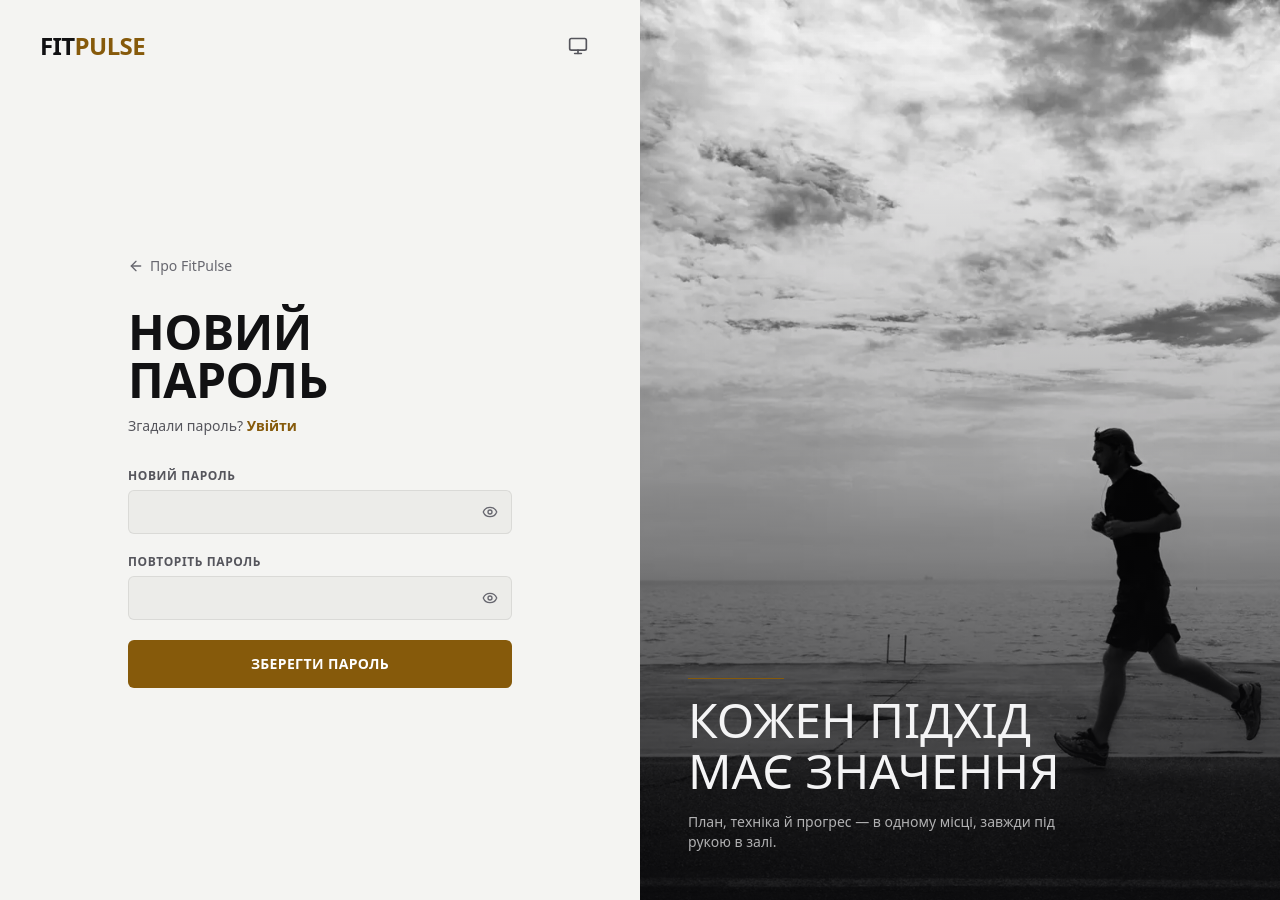
Test case: ResetPasswordPage › reset page requires matching passwords
In the password field labelled "Новий пароль": x=320, y=512 [128,490,512,534], type "brandnew123"
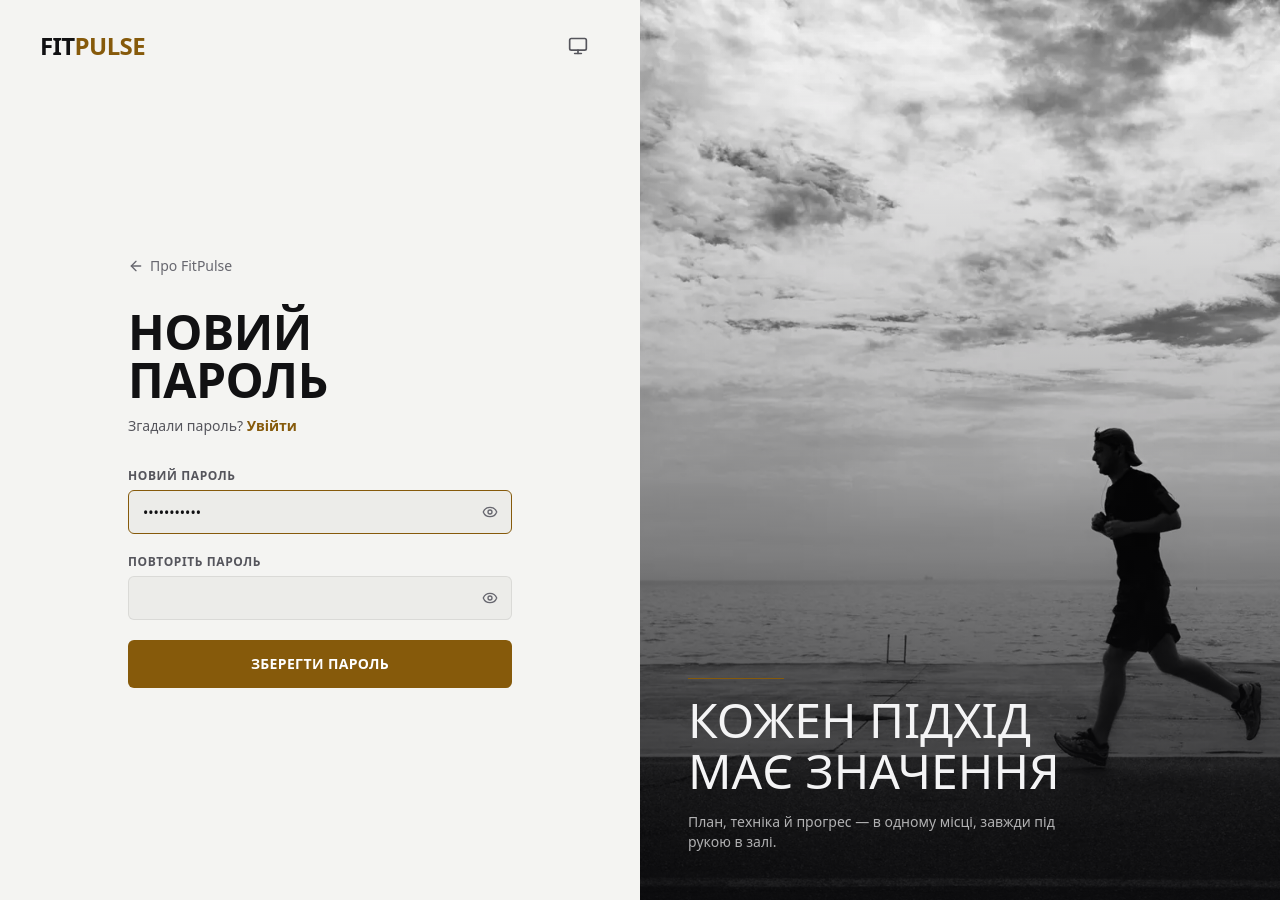
In the password field labelled "Повторіть пароль": x=320, y=598 [128,576,512,620], type "brandnew124"
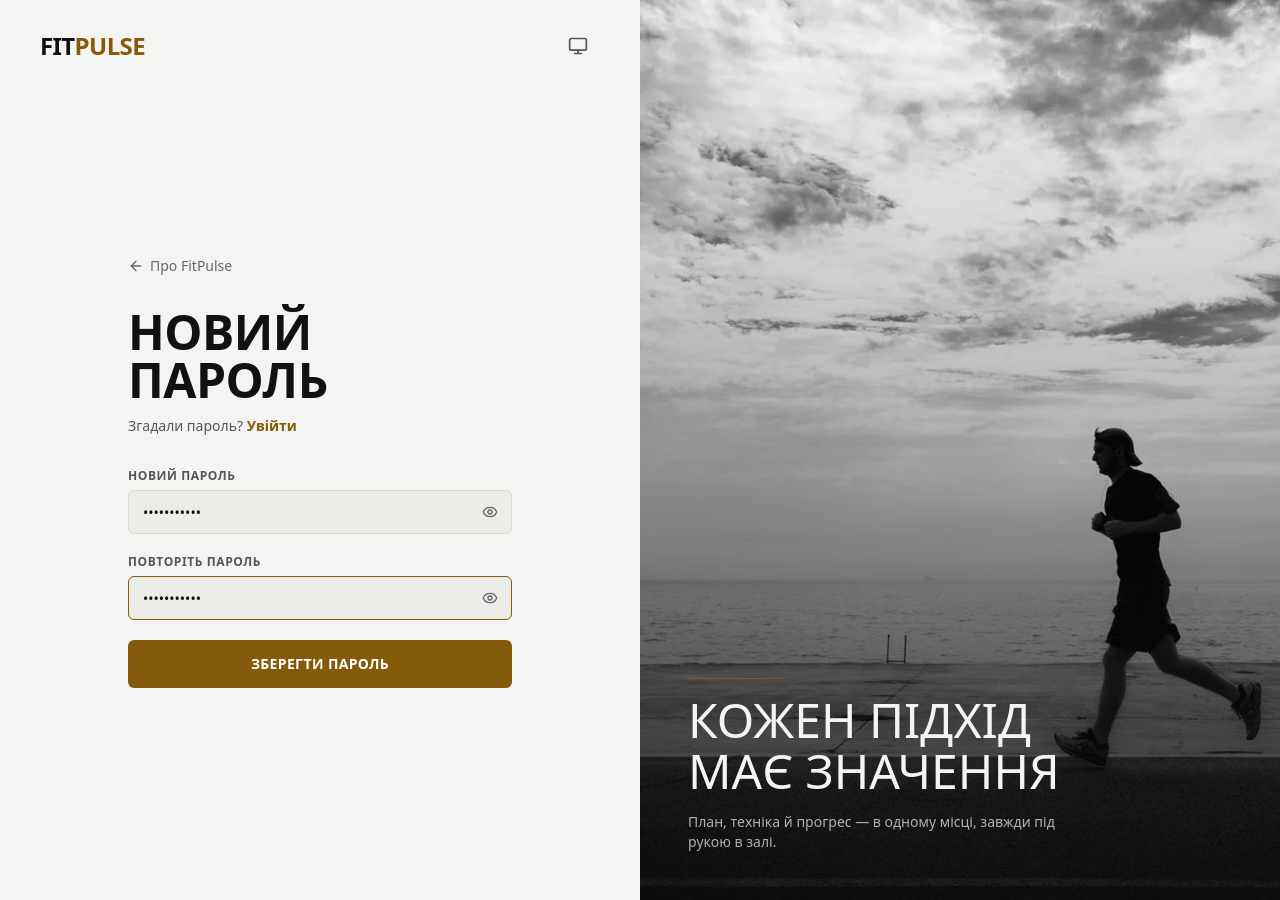
Click the button "Зберегти пароль": x=320, y=664 [128,640,512,688]
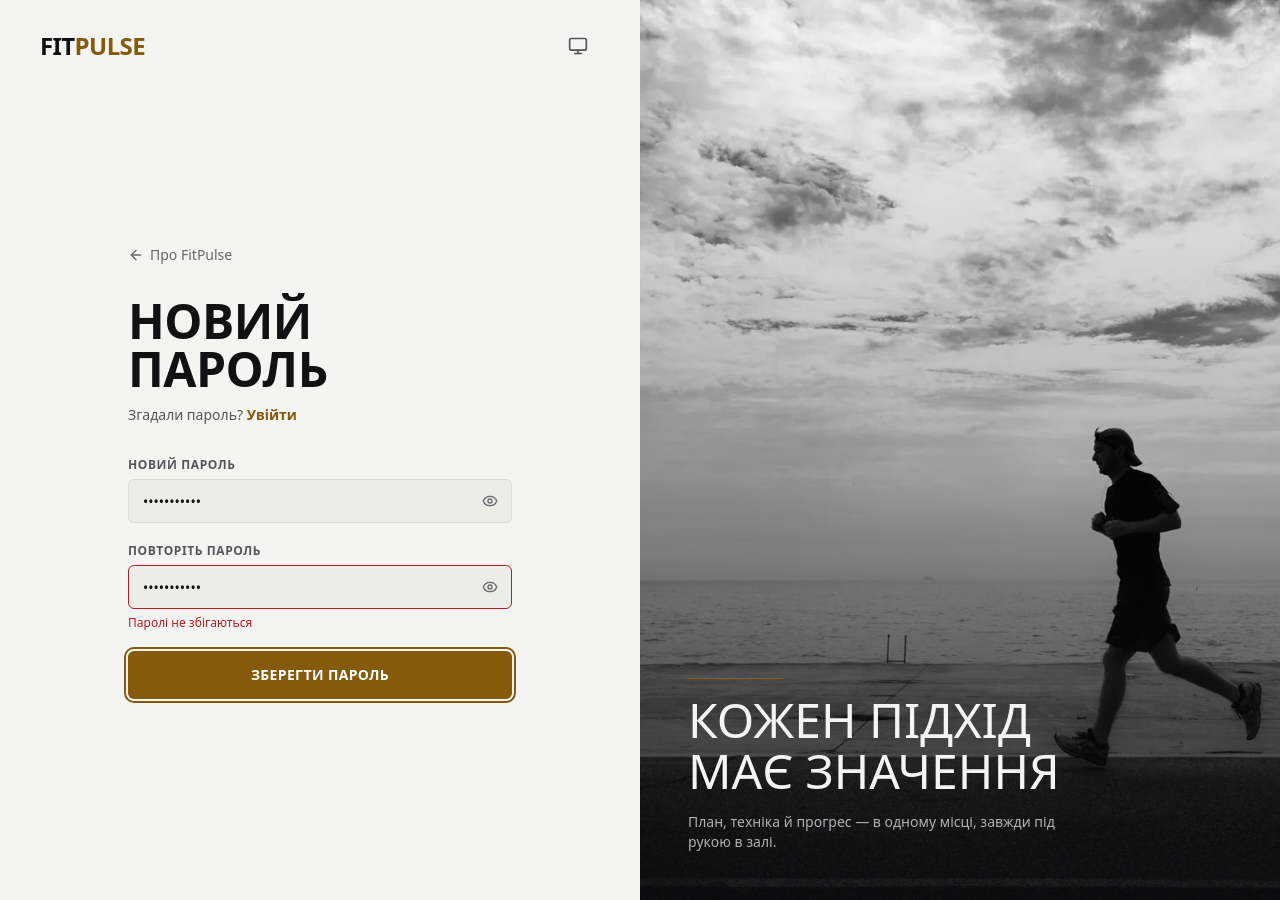
Now the text "Паролі не збігаються" is shown, box [128,614,252,631]
